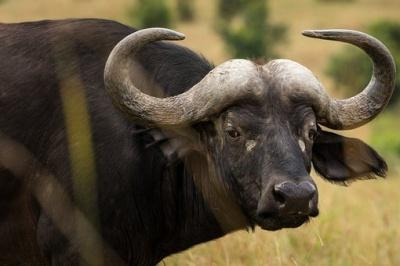buffalo: (0, 19, 397, 266)
